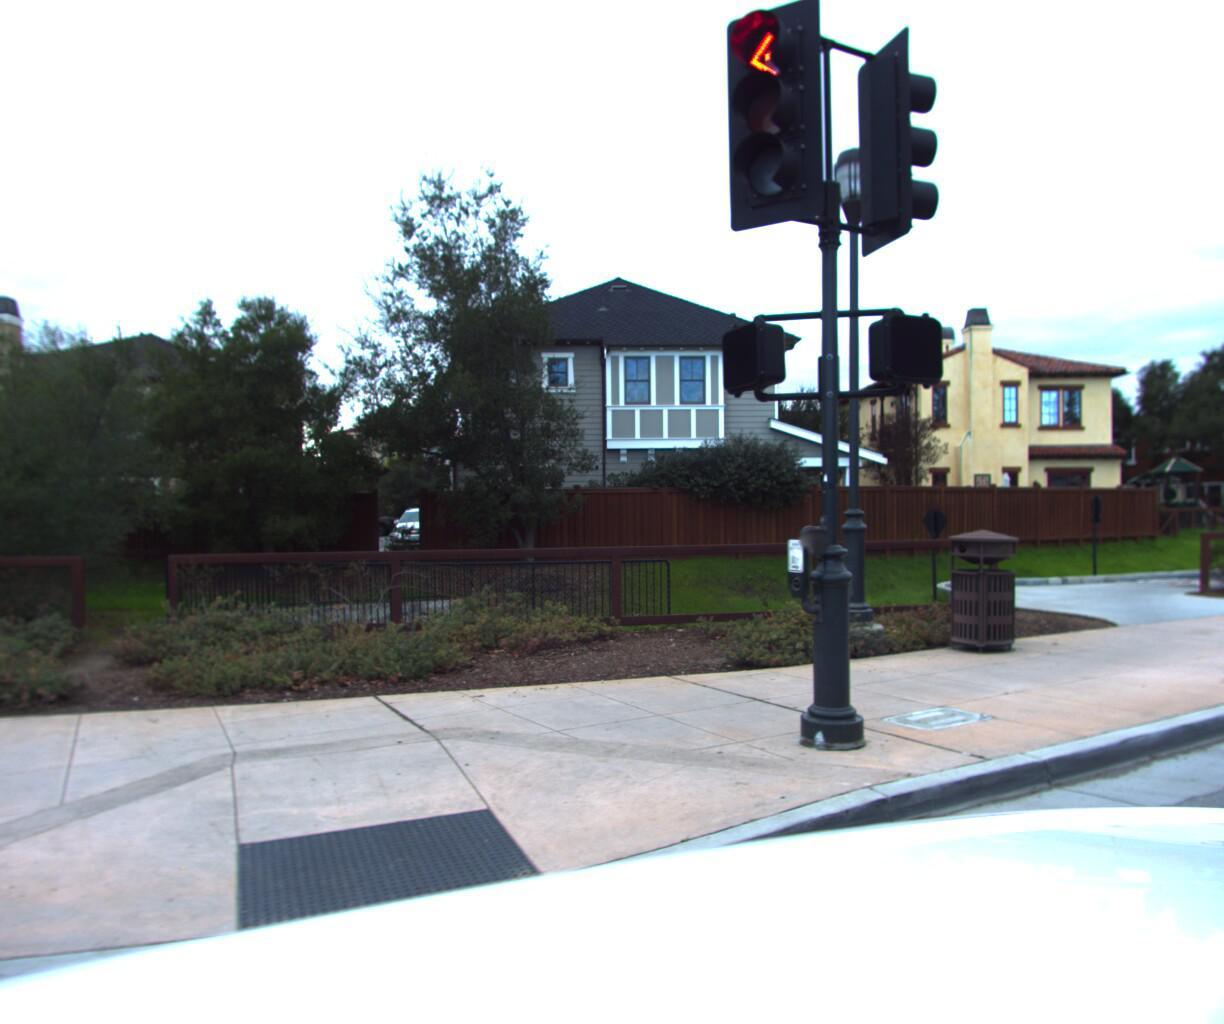car: (382, 504, 466, 551)
